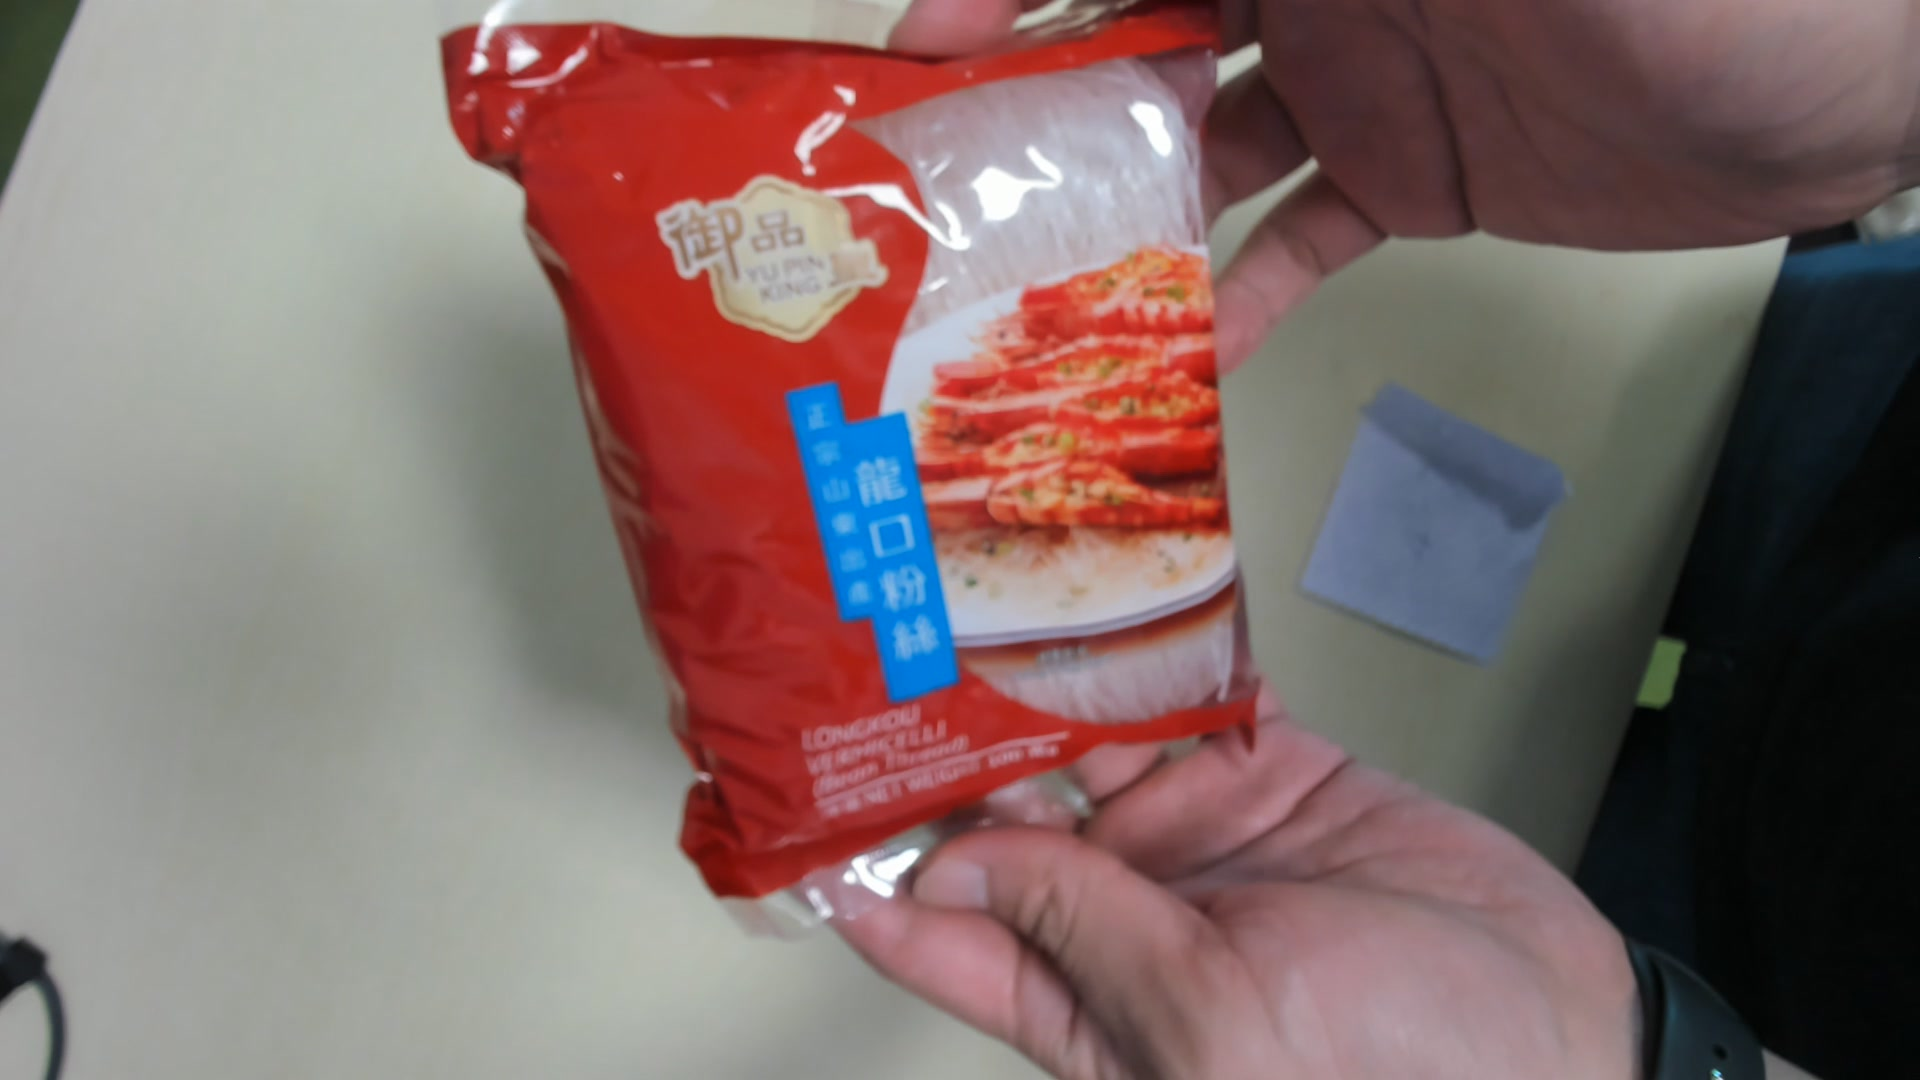BeeHoonVermicelli_100-199g_NonHalal_NonHealthy: (493, 26, 1266, 887)
